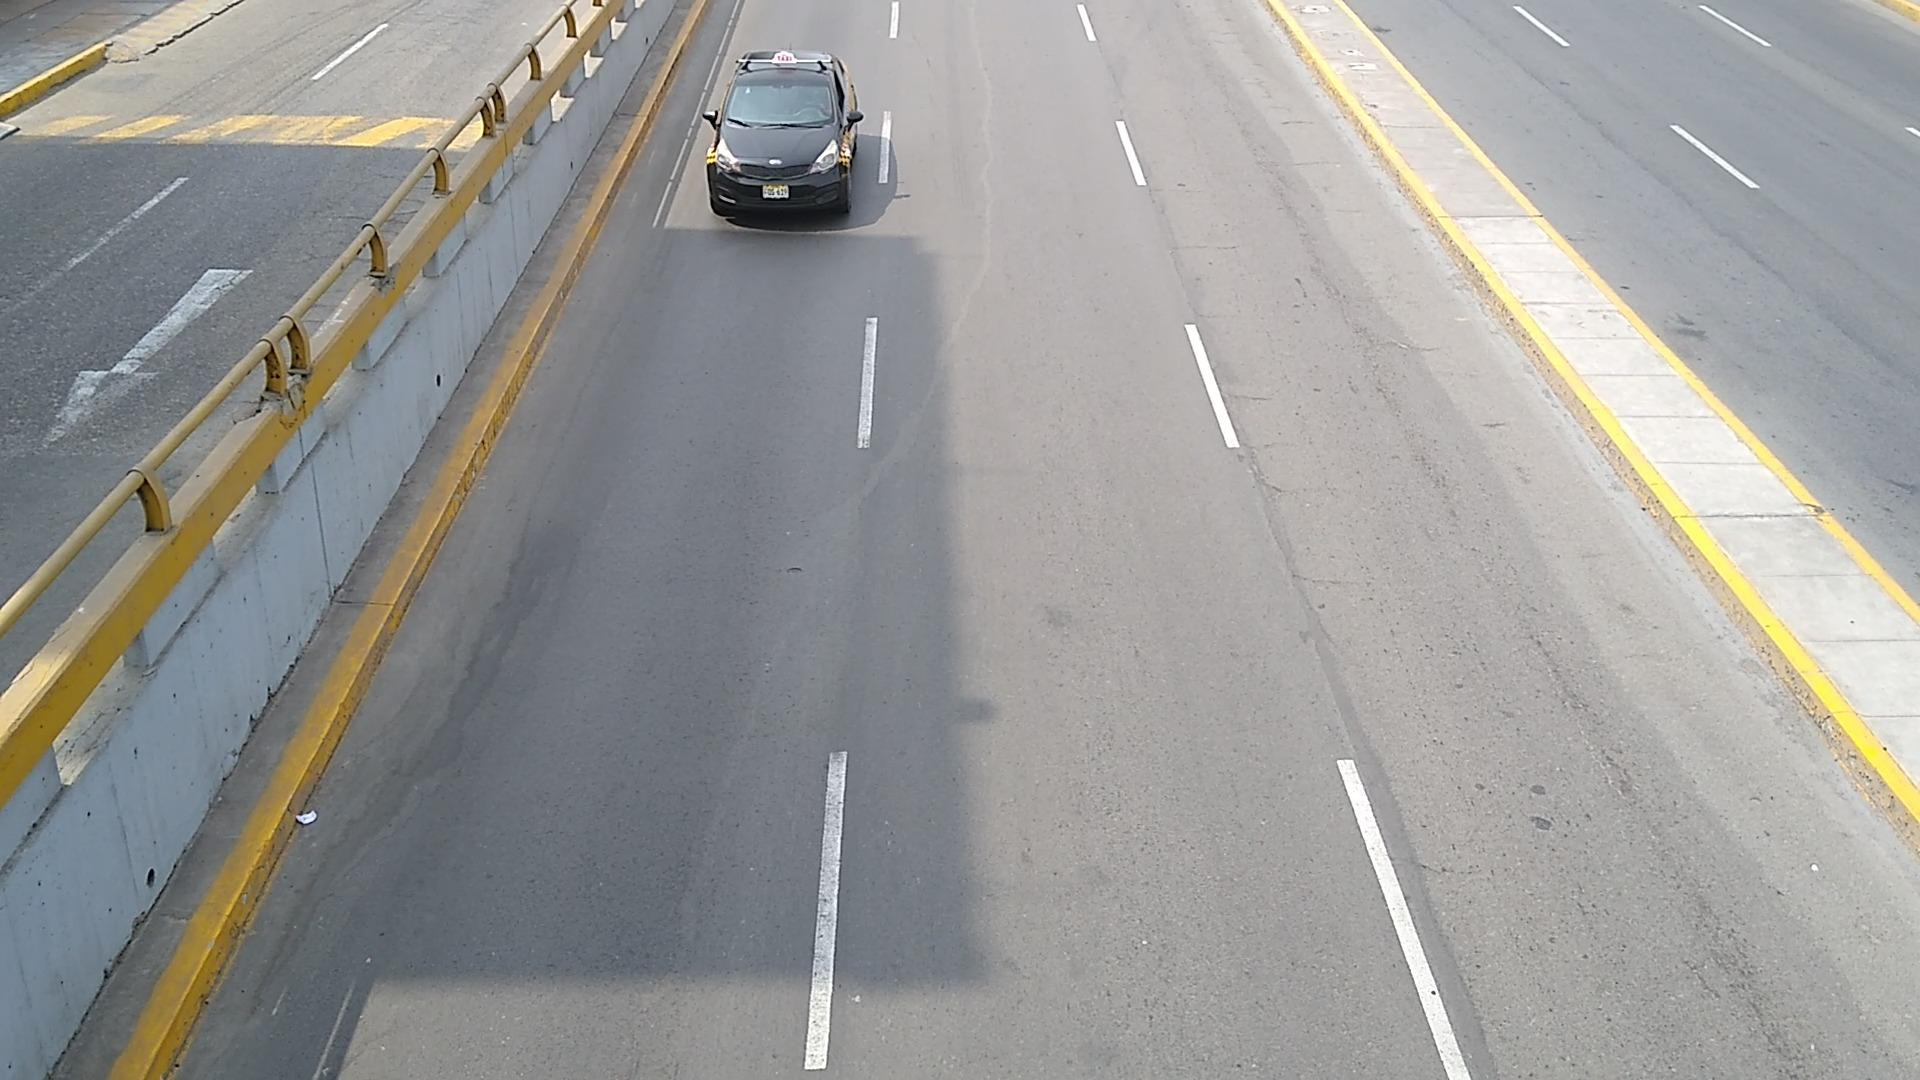car: (705, 49, 862, 218)
